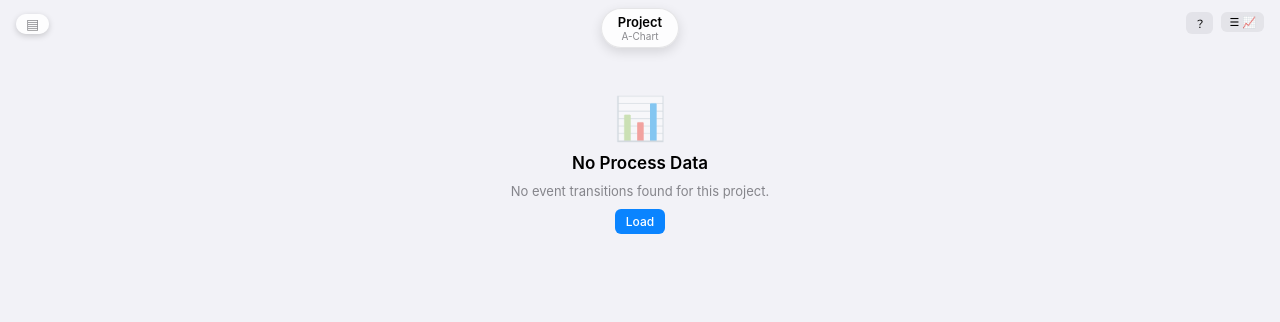
Test: DetailPane view-mode menu › hides the power-only views from a plain user
The width and height of the screenshot is (1280, 322).
Click the button titled "Switch view" at {"x": 1243, "y": 22}, box [1222,12,1264,32]
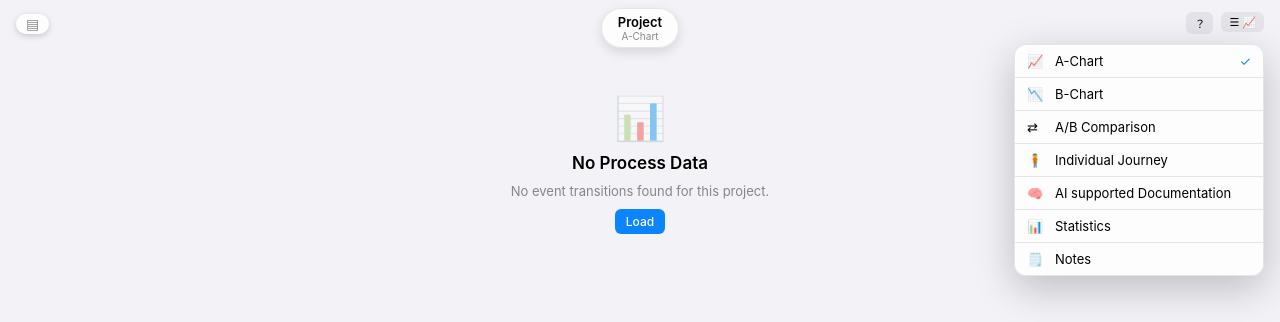
Expected: the button "📈 A-Chart ✓" is shown, [1015,45,1263,77]
Expected: the button "🧍 Individual Journey" is shown, [1015,143,1263,176]
Expected: the button "📊 Statistics" is shown, [1015,209,1263,242]
